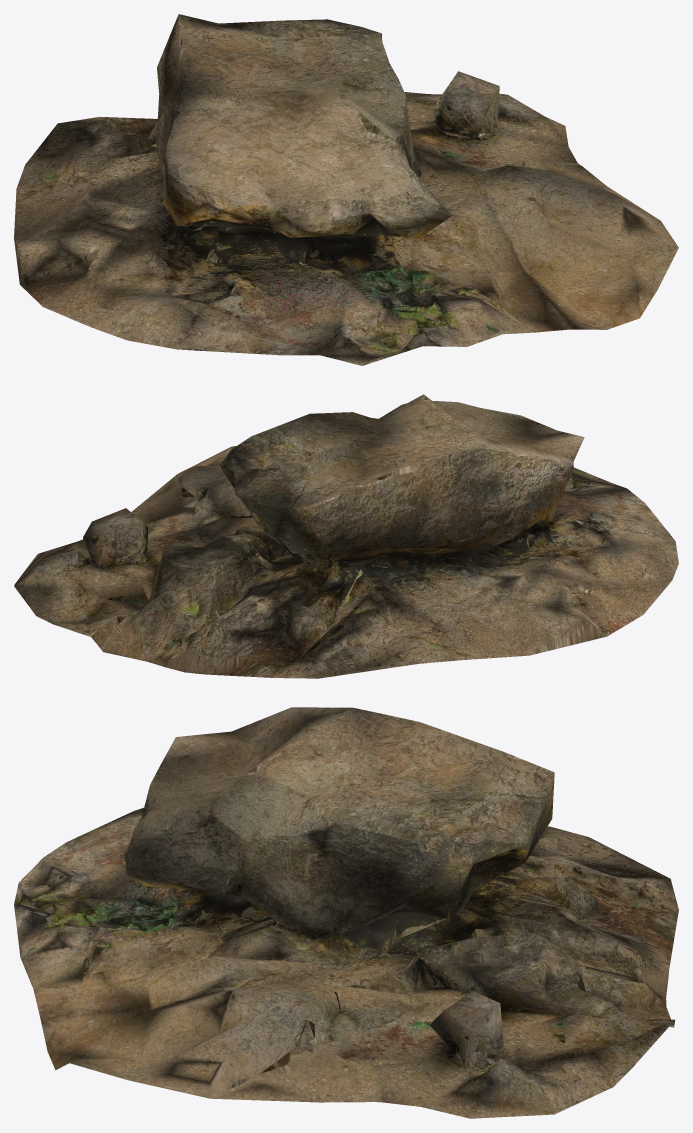
Rendered from coast_rocks_05.glb.
3 renders of one model, top to bottom at view 1: azimuth 30°, elevation 25°; view 2: azimuth 150°, elevation 25°; view 3: azimuth 270°, elevation 25°, orthographic. The views are drawn at different scales.
Parts seen in each view (by area): view 1: coast_rocks_05; view 2: coast_rocks_05; view 3: coast_rocks_05.
Part boxes in pixels (left/top/right/bottom): coast_rocks_05: left=14, top=14, right=678, bottom=365; coast_rocks_05: left=14, top=394, right=678, bottom=678; coast_rocks_05: left=14, top=707, right=678, bottom=1118.
Bounding box in the file's own units: 4.03 × 1.29 × 3.74.
Materials: 1 (1 with a texture image).
